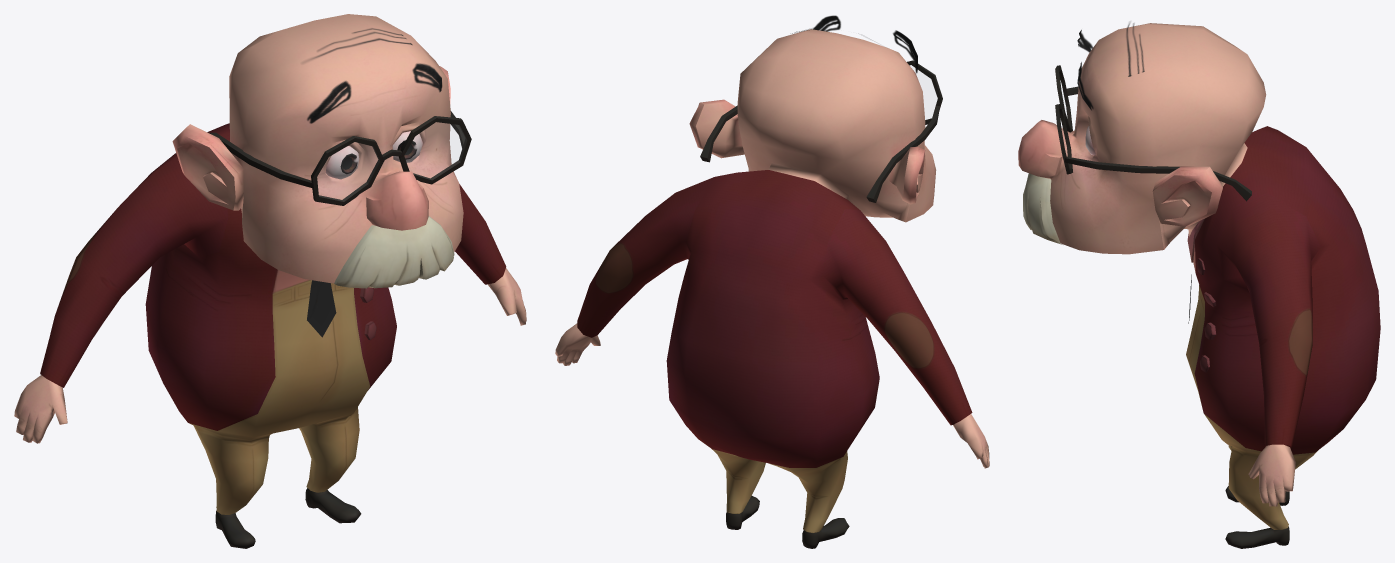
The model's file is erwin_-_low_poly.glb.
3 views of the same model, side by side, from view 1: azimuth 30°, elevation 25°; view 2: azimuth 150°, elevation 25°; view 3: azimuth 270°, elevation 25° (orthographic). The views are drawn at different scales.
Visible parts, largest first — view 1: Erw_Body, Erw_Mustache, Erw_Glasses, Erw_Eyes, Erw_Eyebrows, Erw_Tie; view 2: Erw_Body, Erw_Glasses, Erw_Eyebrows; view 3: Erw_Body, Erw_Glasses, Erw_Mustache, Erw_Buttons.
Boxes of the visible parts, x1=… form: Erw_Body: x1=14, y1=14, x2=526, y2=548; Erw_Mustache: x1=334, y1=216, x2=454, y2=288; Erw_Glasses: x1=209, y1=111, x2=471, y2=205; Erw_Eyes: x1=326, y1=131, x2=422, y2=179; Erw_Eyebrows: x1=307, y1=63, x2=442, y2=123; Erw_Tie: x1=307, y1=280, x2=336, y2=337; Erw_Body: x1=555, y1=29, x2=989, y2=548; Erw_Glasses: x1=700, y1=60, x2=942, y2=202; Erw_Eyebrows: x1=813, y1=15, x2=917, y2=73; Erw_Body: x1=1018, y1=23, x2=1380, y2=548; Erw_Glasses: x1=1055, y1=65, x2=1251, y2=201; Erw_Mustache: x1=1023, y1=173, x2=1062, y2=244; Erw_Buttons: x1=1196, y1=258, x2=1216, y2=372.
Bounding box in the file's own units: 1.96 × 2 × 1.34.
Materials: 1 (1 with a texture image).
